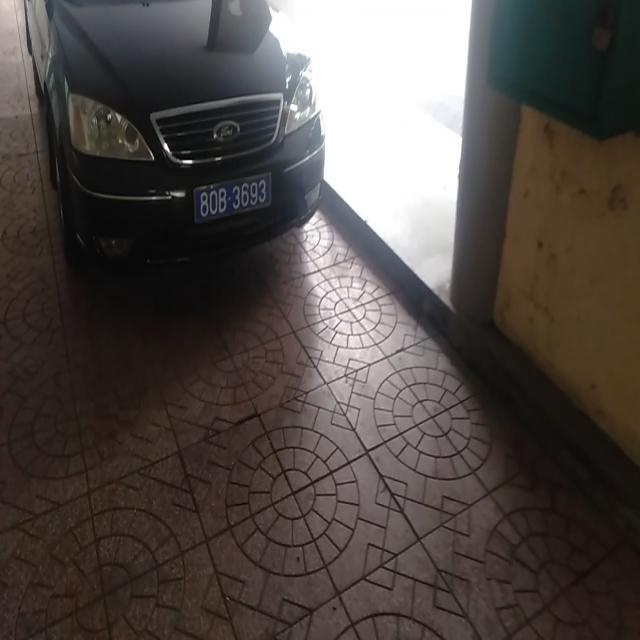bien_xanh: (193, 176, 273, 226)
